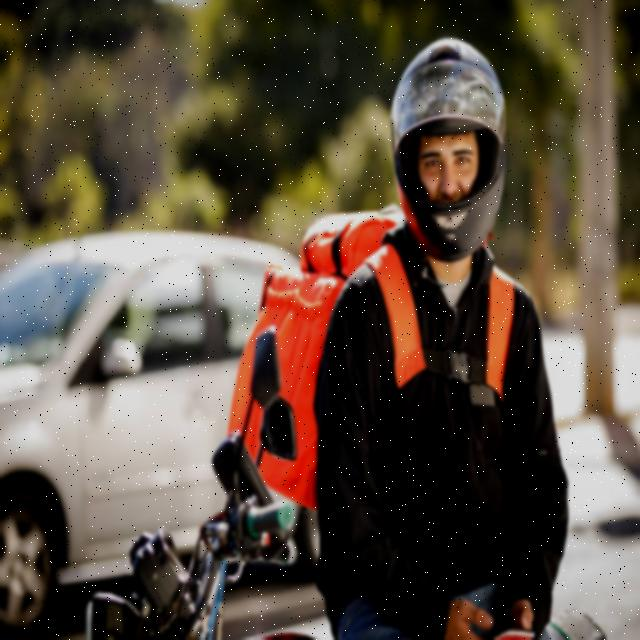with-helmet: (389, 35, 513, 266)
